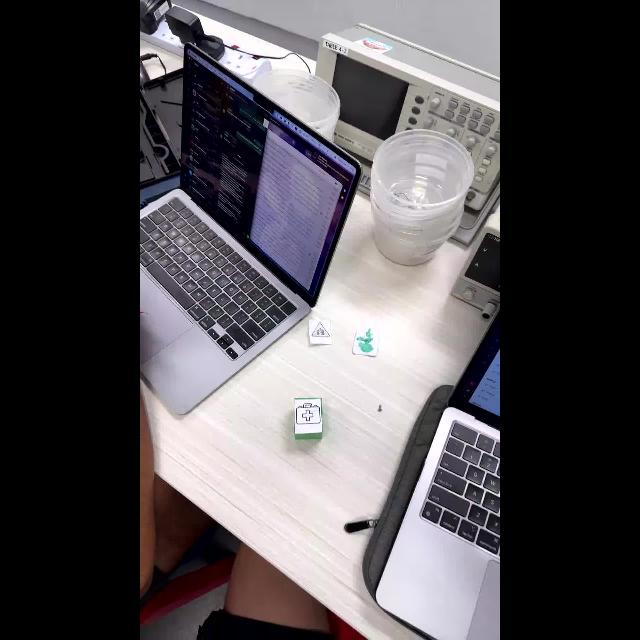Medkit: (295, 402, 320, 425)
